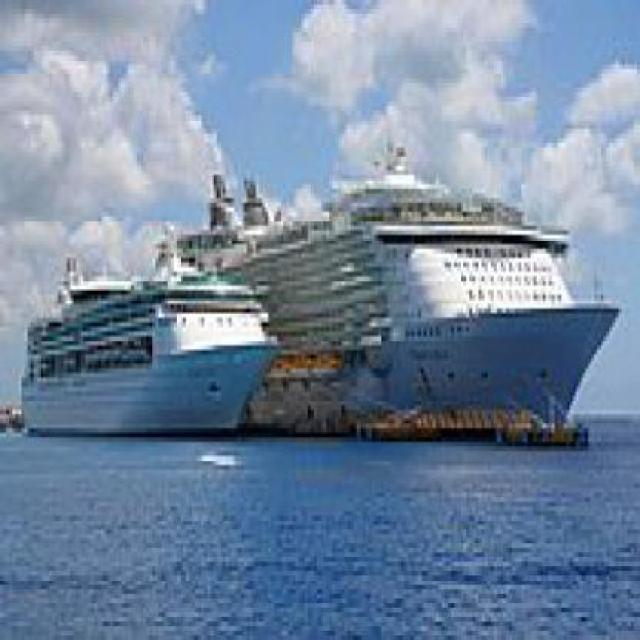cruise: (159, 148, 632, 452), (19, 222, 288, 448)
